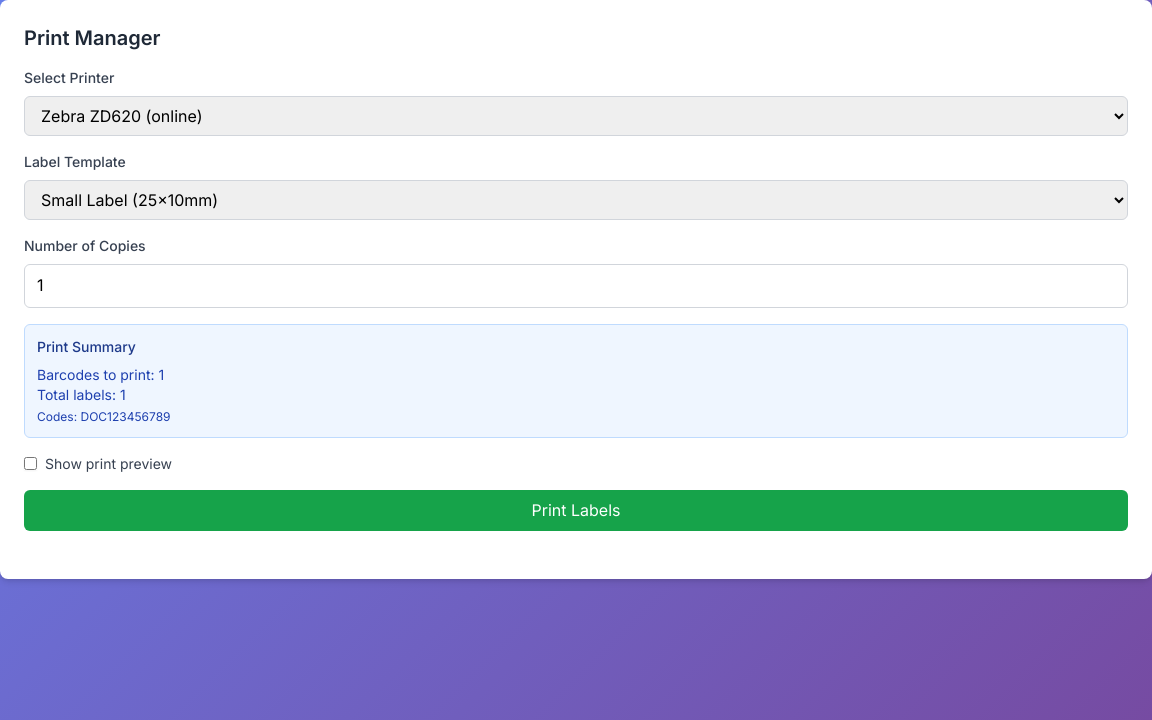
it: PrintManager › shows loading state during printing
Select "Zebra ZD620 (online)" in the dropdown labelled "Select Printer": (576, 116) [24,96,1128,136]
Select "Small Label (25x10mm)" in the dropdown labelled "Label Template": (576, 200) [24,180,1128,220]
Click the button "Print Labels": (576, 510) [24,490,1128,531]
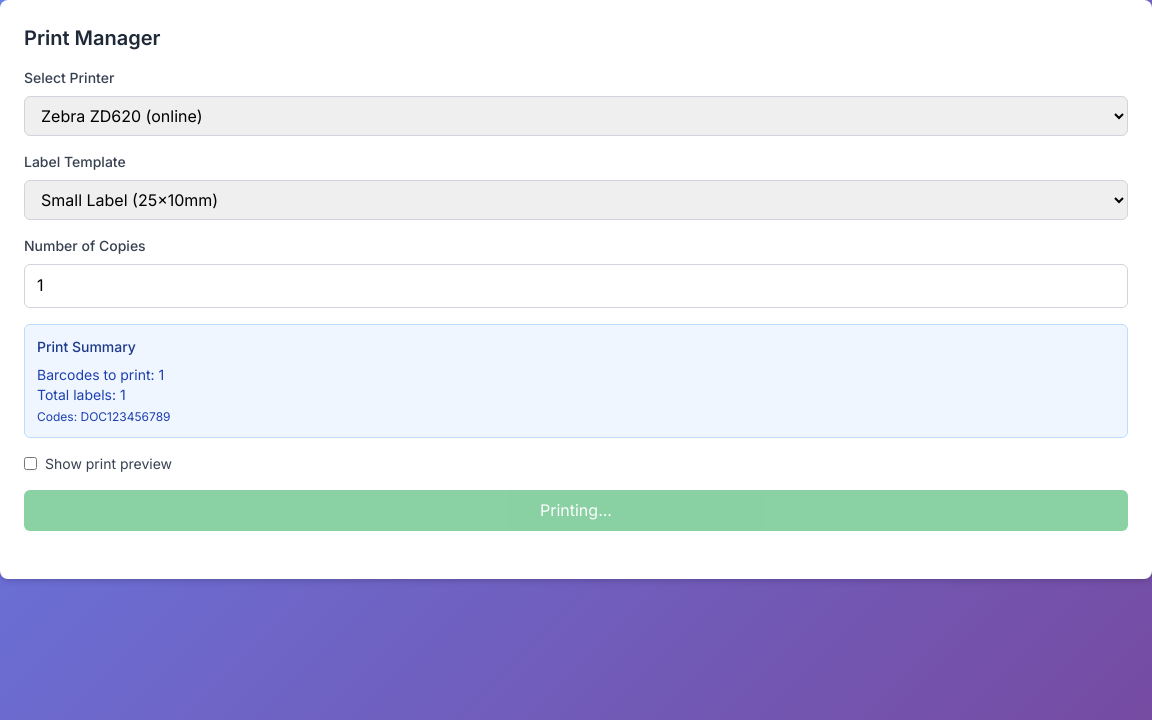
Now the button "Printing..." is disabled, box [24,490,1128,531]
